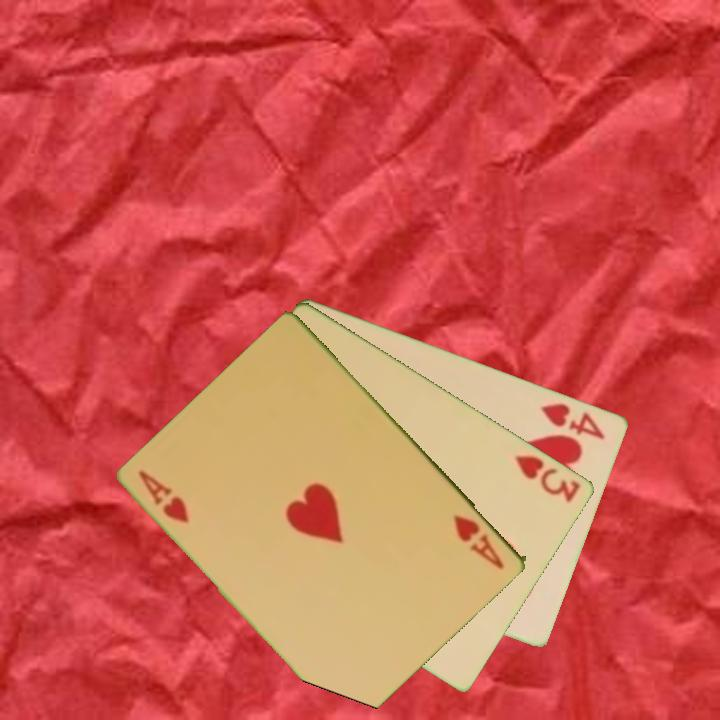3h: (511, 451, 584, 506)
4h: (538, 399, 608, 443)
Ah: (450, 511, 508, 572), (135, 466, 193, 527)
